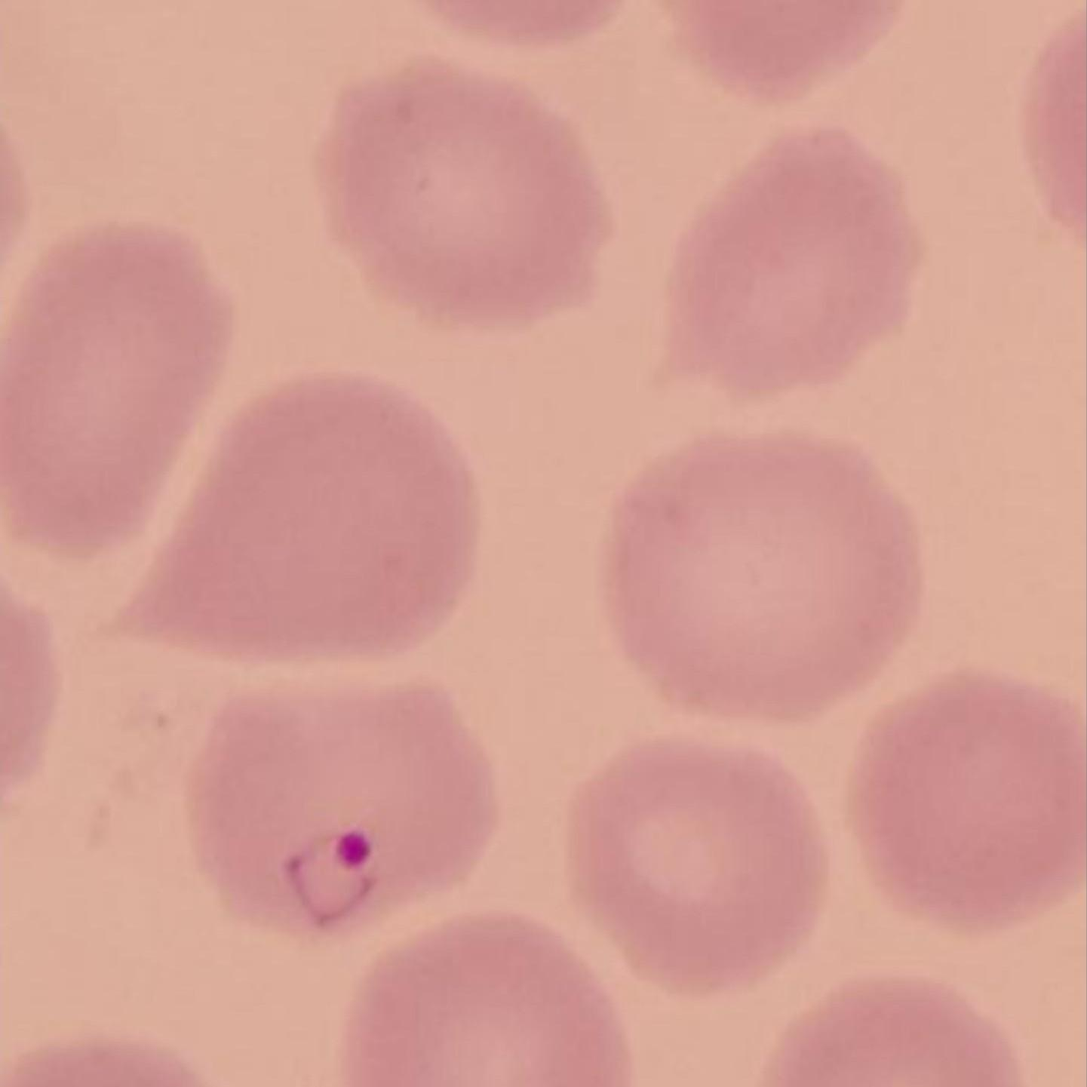Infected: (187, 689, 500, 931)
Uninfected: (113, 368, 482, 655), (613, 430, 926, 713), (315, 57, 612, 330), (0, 219, 236, 549), (658, 125, 923, 400), (568, 738, 834, 989), (847, 676, 1087, 925), (341, 911, 639, 1087)
